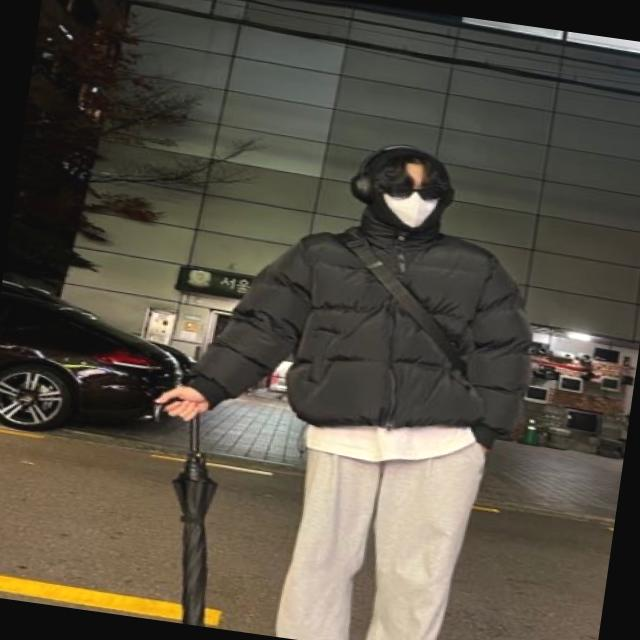padding: (182, 189, 548, 458)
trainingpants: (271, 418, 489, 640)
